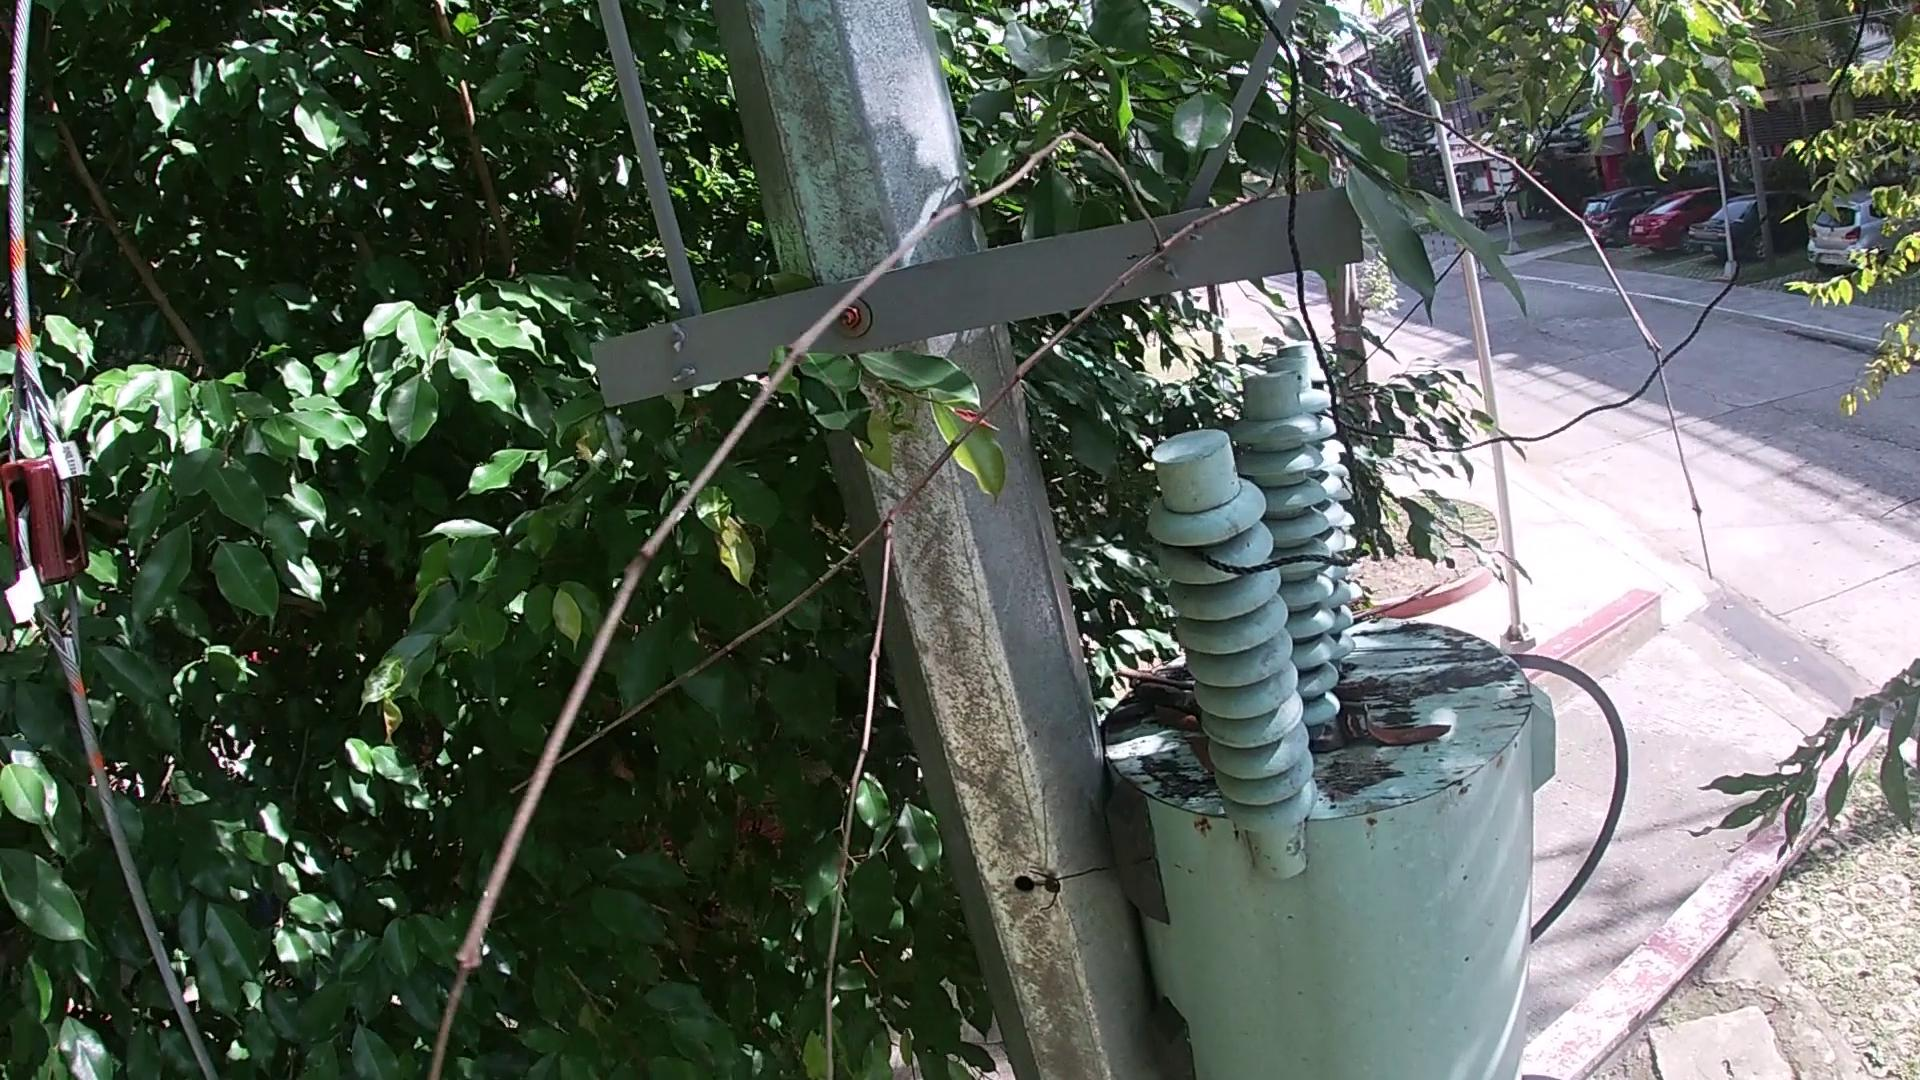leaf: (1357, 702, 1456, 752), (1147, 700, 1203, 735), (1174, 732, 1218, 773)
tree branch: (415, 79, 1724, 1077), (1352, 578, 1458, 640), (1116, 663, 1203, 712)
